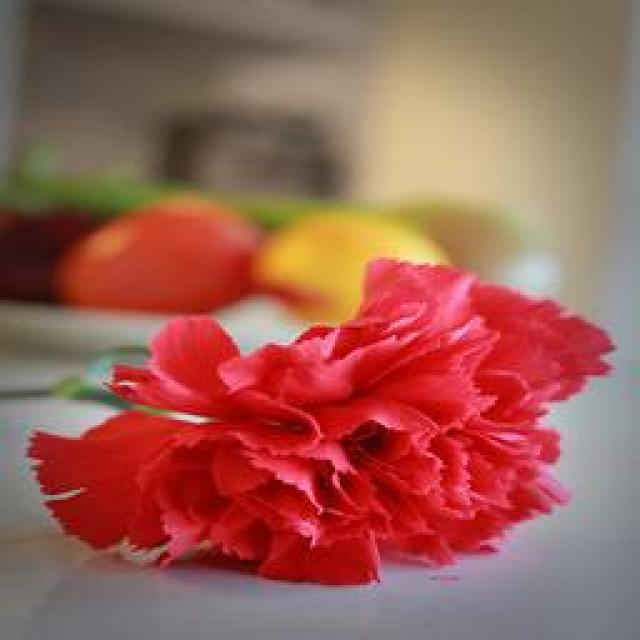carnation: (35, 267, 640, 583)
